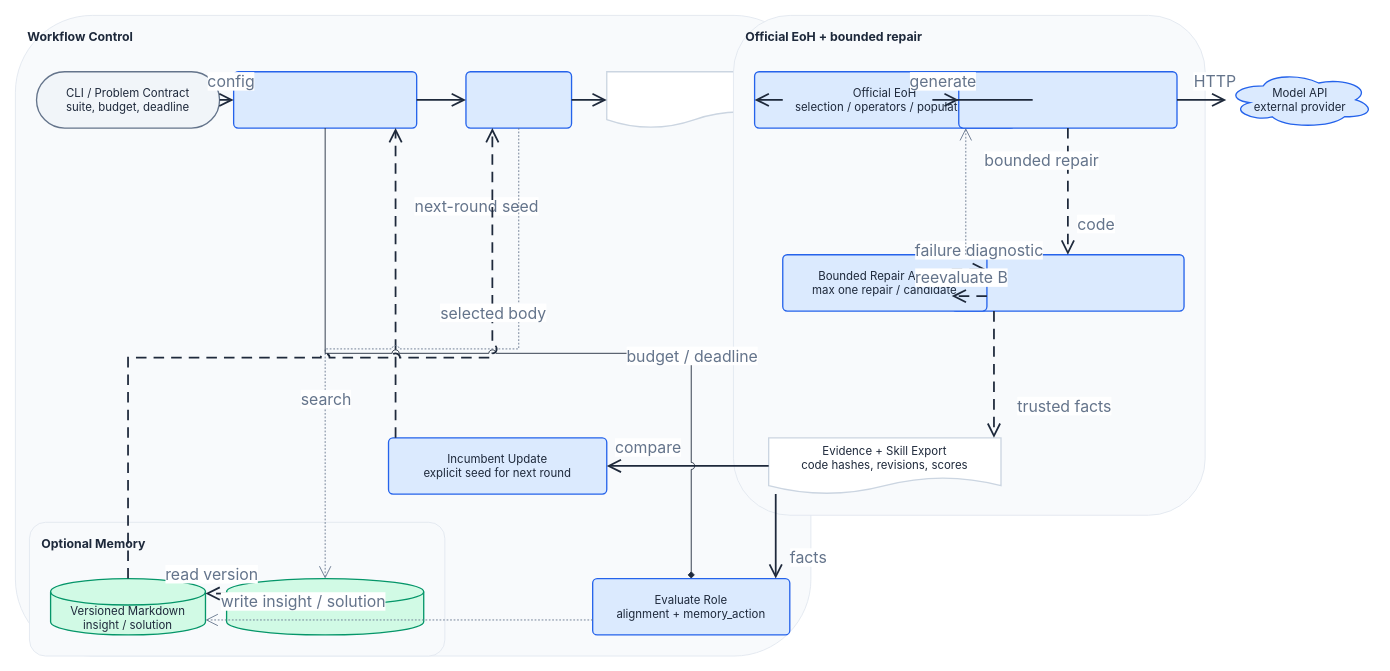
The diagram is 1390 pixels wide and 671 high, and some of its shapes have lost their labels. The centre of each missing label's shape, as x and y in pixels:
"Isolated Evaluator syntax, interface, suite score" goes at (x=1067, y=282).
"LLM Bridge generation + repair requests" goes at (x=1067, y=99).
"Memory Index project + scene summaries" goes at (x=325, y=606).
"Plan Role plan.json" goes at (x=518, y=99).
"Round Context feedback + memory refs" goes at (x=694, y=99).
"Workflow Runner incumbent + global stop" goes at (x=325, y=99).
